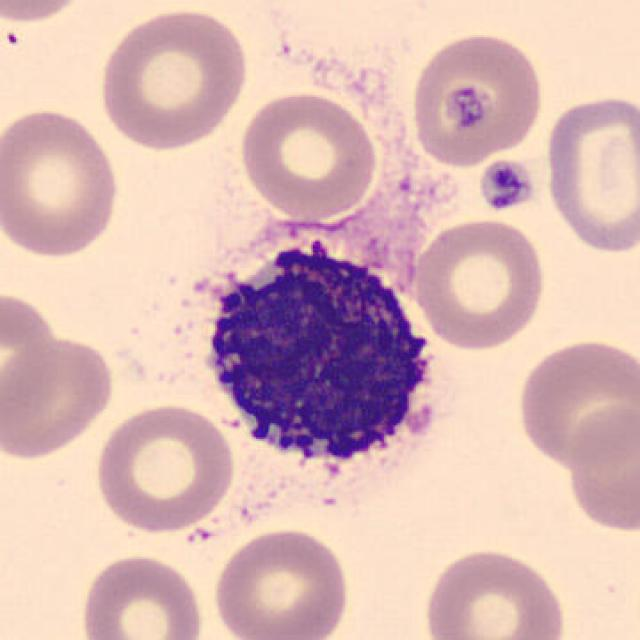Basophil: (188, 224, 464, 509)
Platelets: (476, 157, 537, 213)
RBC: (95, 3, 252, 154), (405, 26, 546, 171), (91, 400, 238, 536), (0, 104, 124, 261), (409, 213, 547, 353), (237, 88, 381, 222), (512, 335, 636, 471), (208, 523, 352, 640), (540, 88, 638, 258), (0, 331, 117, 461), (418, 543, 570, 640), (76, 550, 208, 640), (562, 398, 638, 536), (0, 286, 62, 430), (0, 0, 94, 26)
